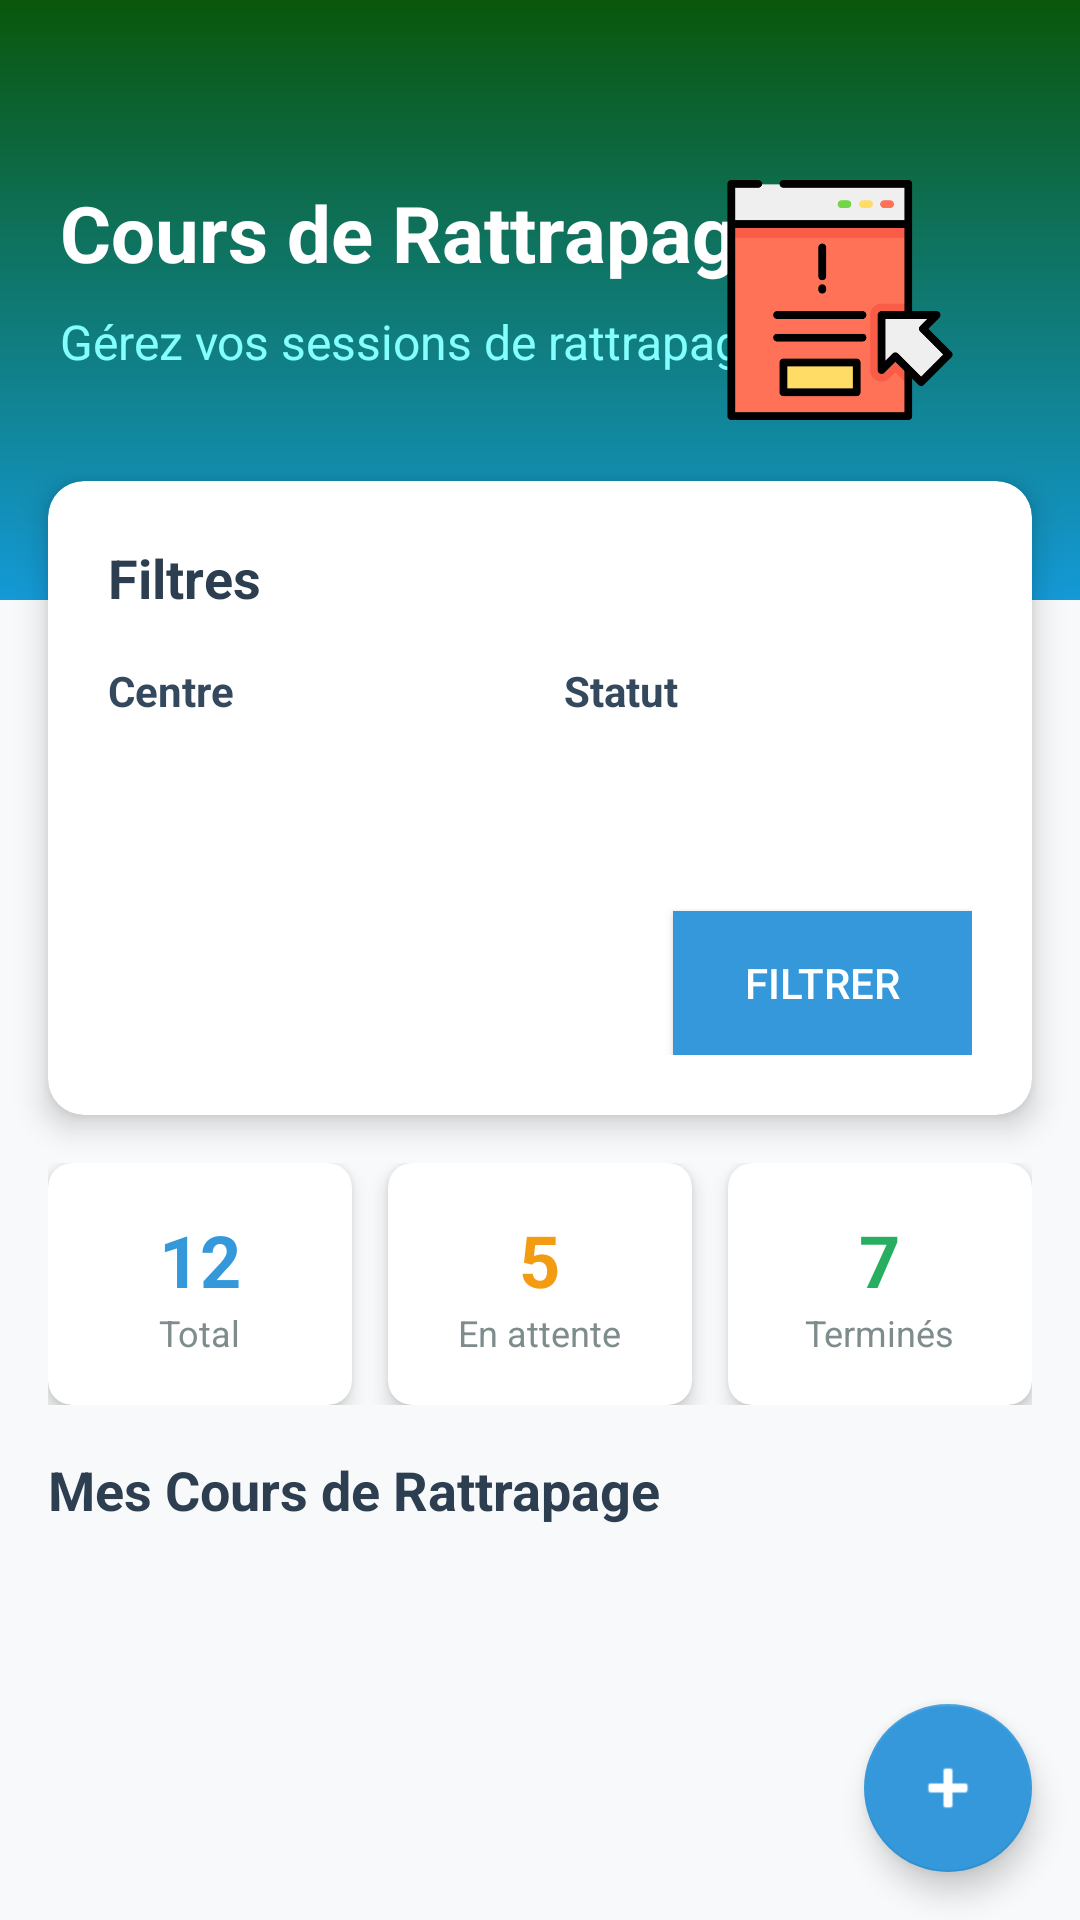

Locate icon controls on the screen. Image size 1080w x 1920h, boxes as bbox(x1, y1, x2, y2).
Ajouter un rattrapage: bbox(864, 1704, 1032, 1872)
